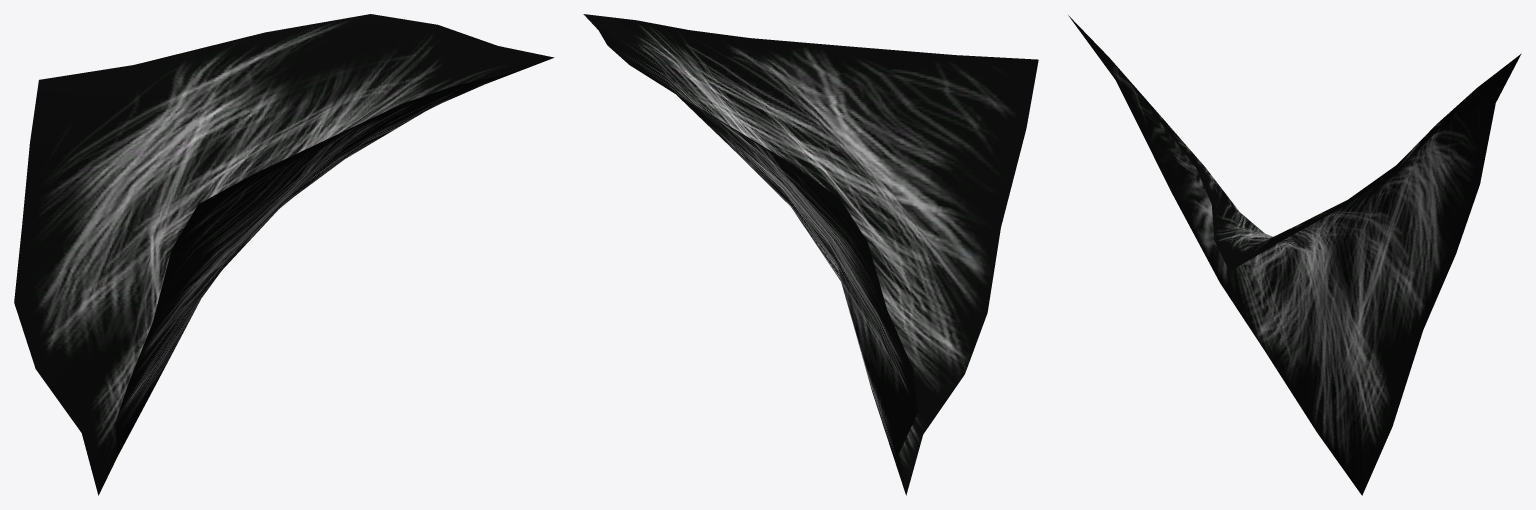
Rendered from SWORDLIGHT20_PS-AREA01_CORNERWEB12.fbx.
3 views of the same model, side by side, from view 1: azimuth 30°, elevation 25°; view 2: azimuth 150°, elevation 25°; view 3: azimuth 270°, elevation 25° (orthographic). The views are drawn at different scales.
Visible parts, largest first — view 1: SWORDLIGHT20_PS-AREA01_CORNERWEB12; view 2: SWORDLIGHT20_PS-AREA01_CORNERWEB12; view 3: SWORDLIGHT20_PS-AREA01_CORNERWEB12.
Boxes of the visible parts, x1,y1,x2,y2 form: SWORDLIGHT20_PS-AREA01_CORNERWEB12: (14,14,554,495); SWORDLIGHT20_PS-AREA01_CORNERWEB12: (583,14,1038,495); SWORDLIGHT20_PS-AREA01_CORNERWEB12: (1068,15,1521,495).
Bounding box in the file's own units: 61139 × 52612 × 44179.
1 material, 1 textured.
